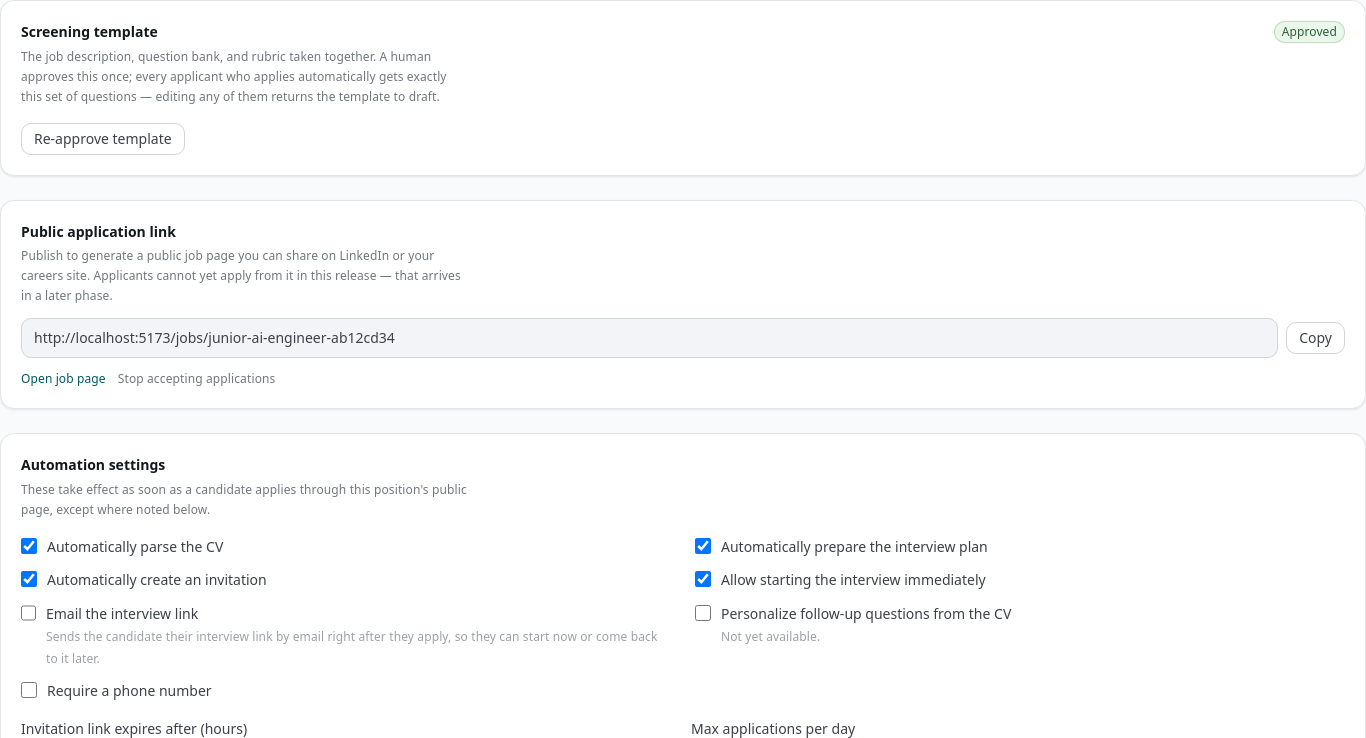
Scenario: ScreeningSetupPanel › unpublishing keeps the slug but stops accepting applications
This screenshot has width=1366, height=738.
Click the button "Stop accepting applications" at (197, 379), box [118,370,275,388]
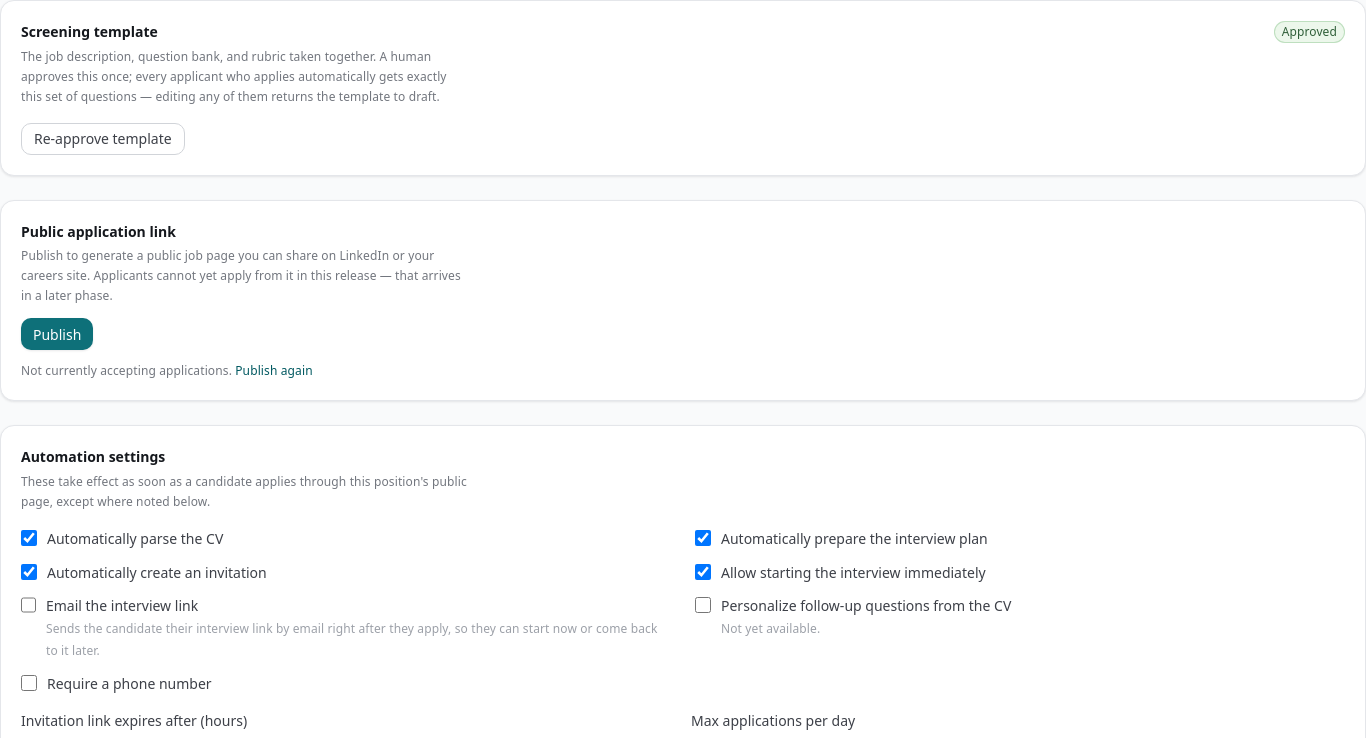
Now the text "Not currently accepting applications. Publish again" is shown, box [21,362,313,380]
